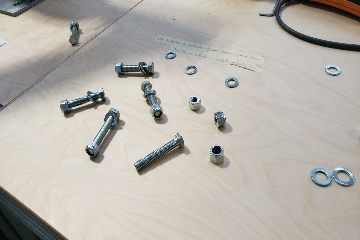Bolt: (131, 131, 190, 173)
FalseAssembly: (83, 108, 122, 159), (57, 87, 107, 116), (68, 17, 83, 51)
FinishedAssembly: (138, 80, 170, 124), (113, 60, 157, 78)
Nut: (209, 143, 226, 165), (212, 110, 229, 131), (187, 95, 203, 111)
Washer: (332, 164, 354, 188), (310, 167, 332, 188), (223, 75, 241, 90), (324, 63, 342, 77), (182, 65, 198, 76), (163, 49, 178, 60)
